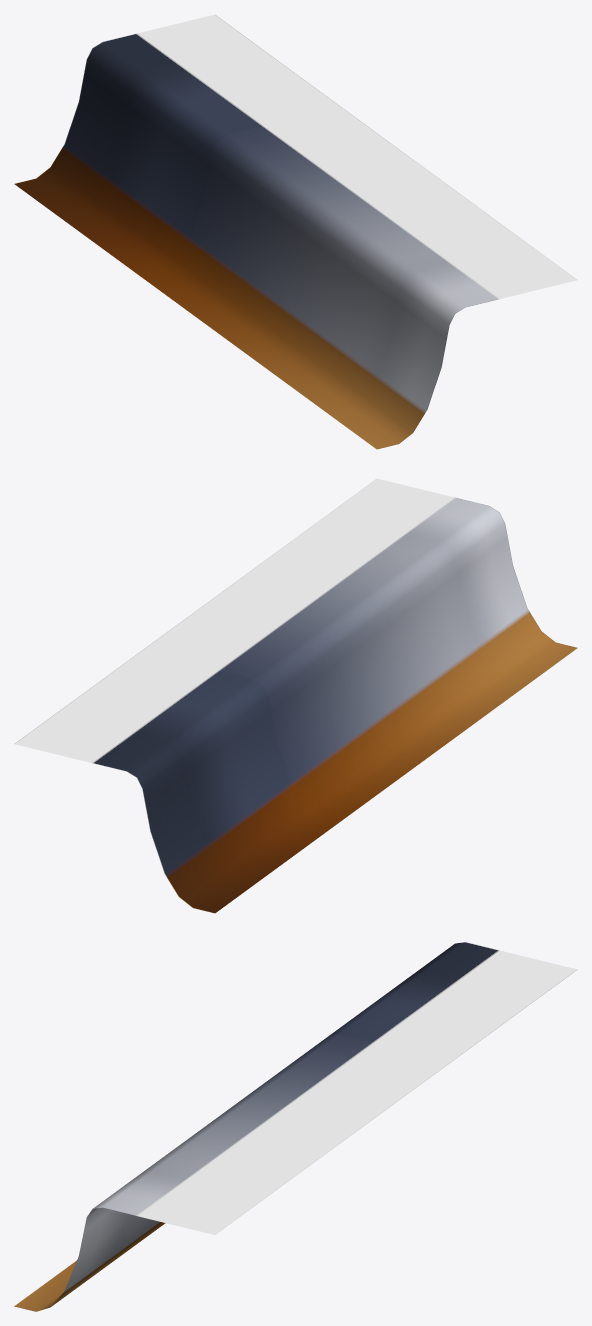
The model's file is Terrain_valley_side.fbx.
3 views of the same model, one above another, from view 1: azimuth 30°, elevation 25°; view 2: azimuth 150°, elevation 25°; view 3: azimuth 330°, elevation 25° (orthographic).
Visible parts, largest first — view 1: polySurface16; view 2: polySurface16; view 3: polySurface16.
Part boxes in pixels (box(x1,y1,x2,y2)): polySurface16: box(14, 14, 577, 449); polySurface16: box(14, 478, 577, 913); polySurface16: box(14, 942, 577, 1311).
Size of the model in its own units: 8 by 4.57 by 25.
